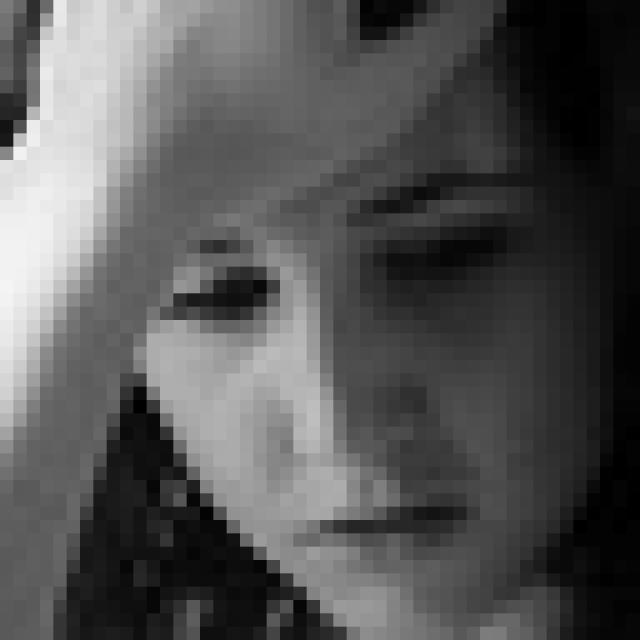sad: (166, 157, 541, 578)
